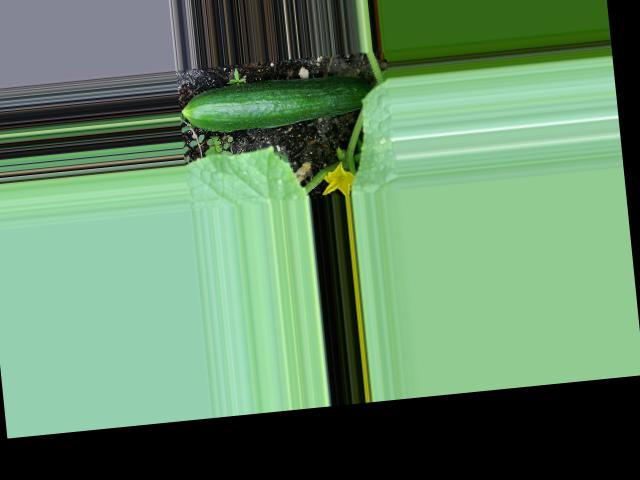cucumber: (178, 69, 374, 136)
